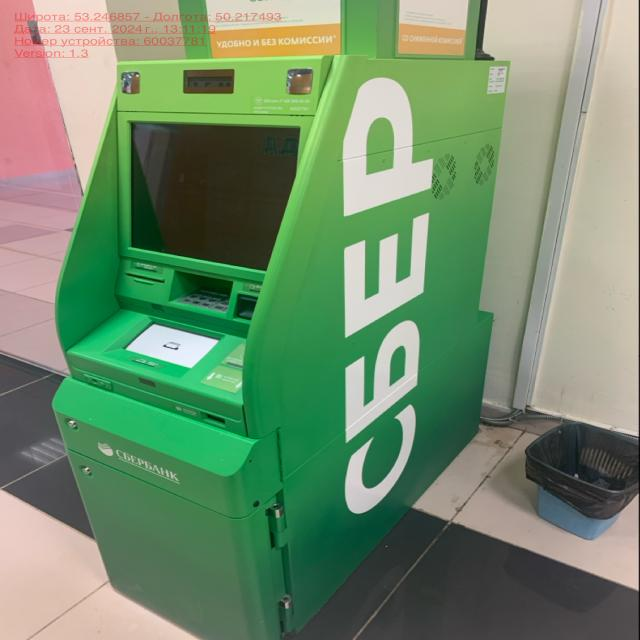bank: (53, 51, 514, 640)
